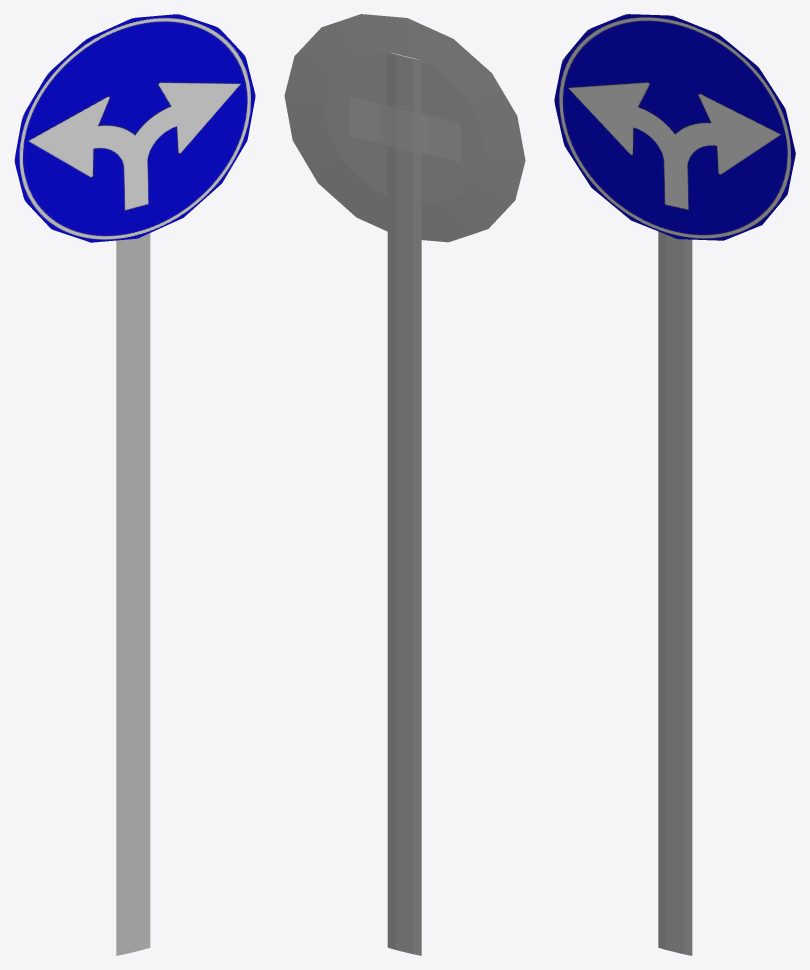
File: solsag.dae
3 renders of one model, left to right at view 1: azimuth 30°, elevation 25°; view 2: azimuth 150°, elevation 25°; view 3: azimuth 330°, elevation 25°, orthographic.
Parts seen in each view (by area): view 1: Sign_Circle.005; view 2: Sign_Circle.005; view 3: Sign_Circle.005.
Boxes of the visible parts, x1=… form: Sign_Circle.005: x1=14, y1=14, x2=255, y2=955; Sign_Circle.005: x1=284, y1=14, x2=525, y2=955; Sign_Circle.005: x1=554, y1=14, x2=795, y2=955.
Bounding box in the file's own units: 0.6353 × 0.00621 × 2.35.
Materials: 3 (1 with a texture image).
